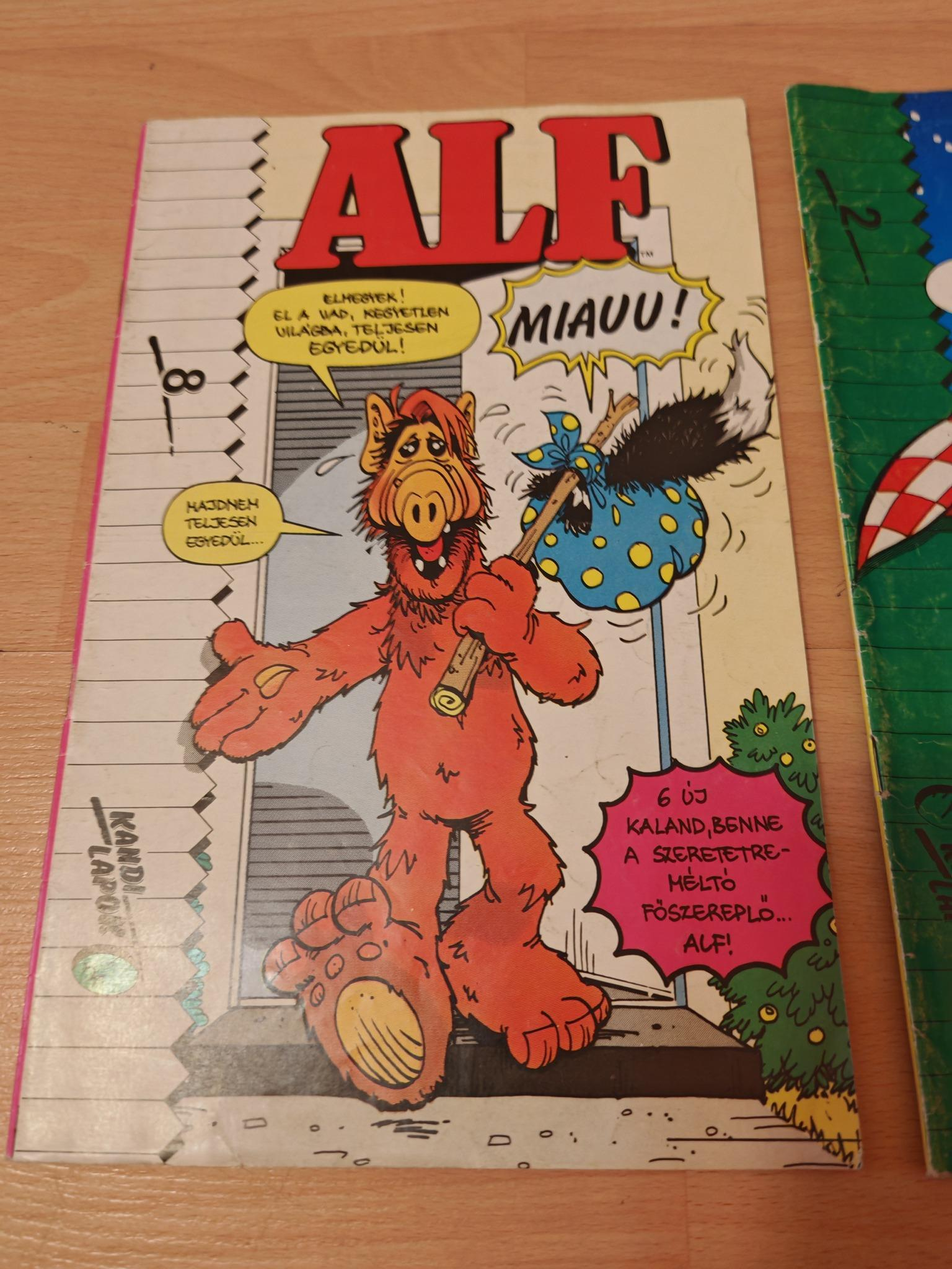comic: (0, 98, 859, 1184)
